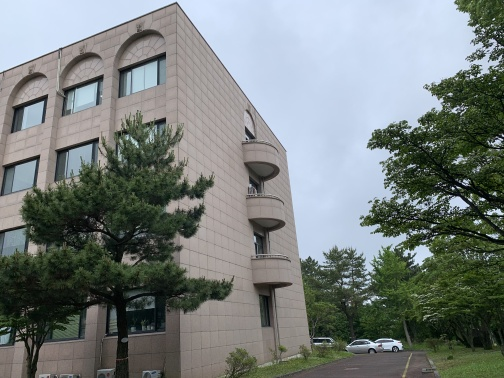Natural Science2: (4, 23, 332, 376), (214, 117, 319, 319)
